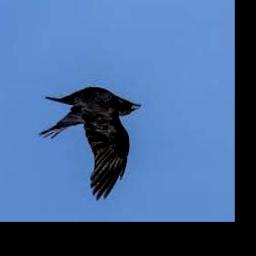Crow: (39, 88, 142, 200)
